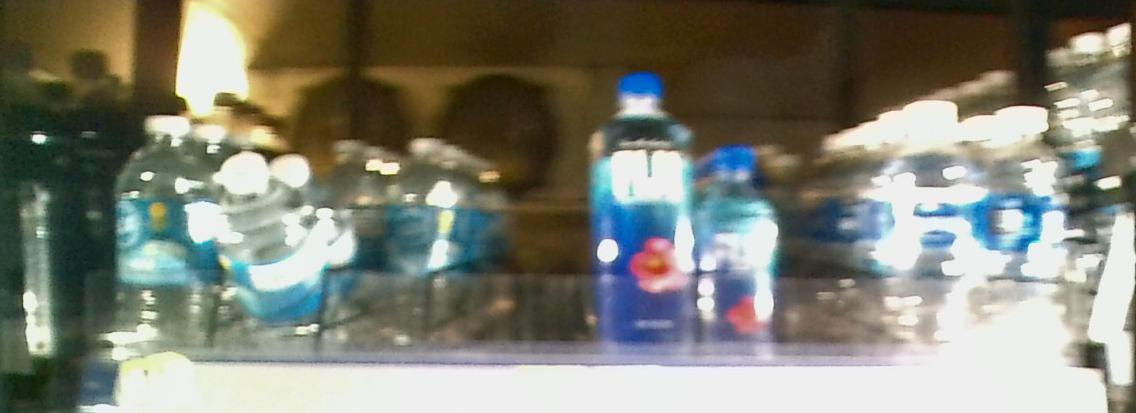bottle: (590, 71, 692, 364), (889, 97, 982, 362), (113, 113, 211, 360), (215, 154, 327, 348), (992, 105, 1076, 362), (699, 140, 782, 369)
